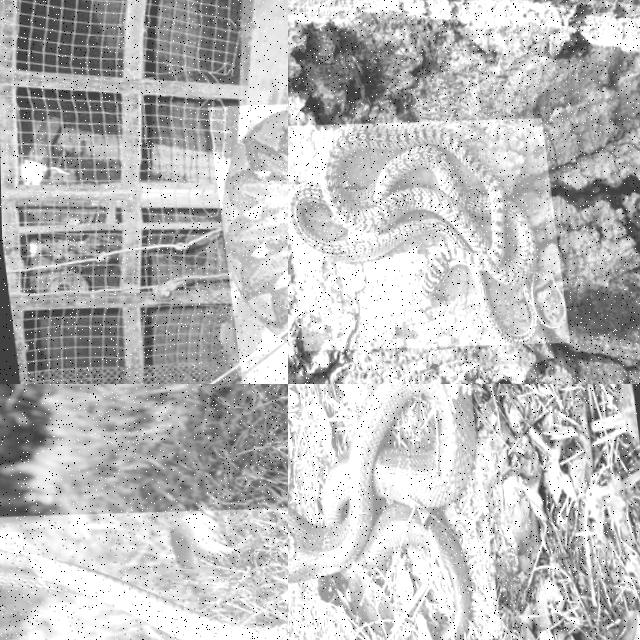Chrysopelea ornata: (288, 123, 566, 343)
Malayopython reticulatus: (222, 110, 287, 331)
Naja kaouthia: (288, 384, 476, 639), (0, 548, 287, 639)
snake: (288, 123, 566, 343), (288, 384, 476, 639), (0, 548, 287, 639), (222, 110, 287, 331)
